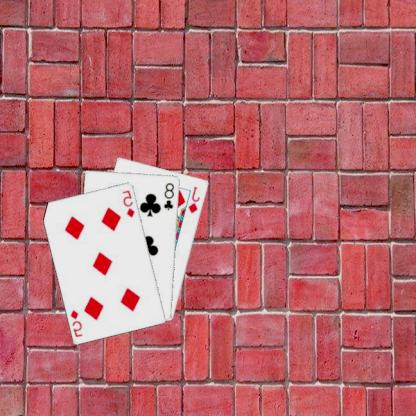5D: (70, 306, 86, 338), (121, 188, 138, 218)
8C: (163, 180, 178, 211)
JD: (188, 184, 204, 215)
